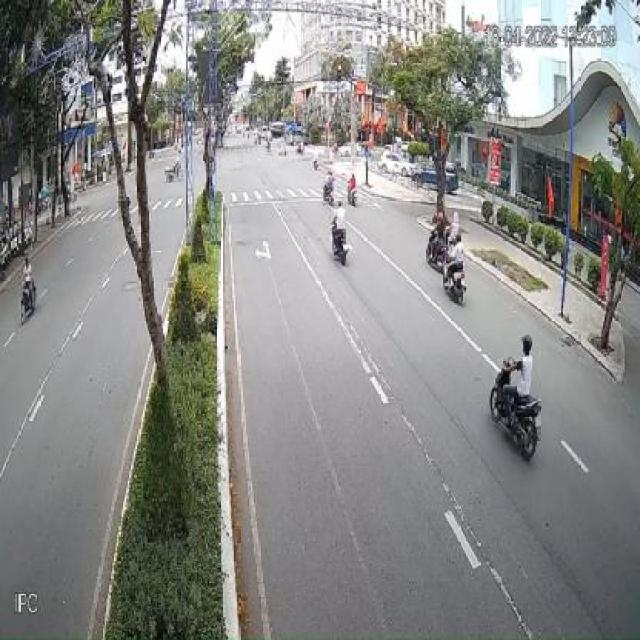motorbike: (491, 333, 544, 462), (444, 248, 469, 307), (426, 226, 447, 274), (18, 272, 36, 324), (332, 215, 350, 265), (346, 174, 358, 205), (322, 173, 333, 206)
